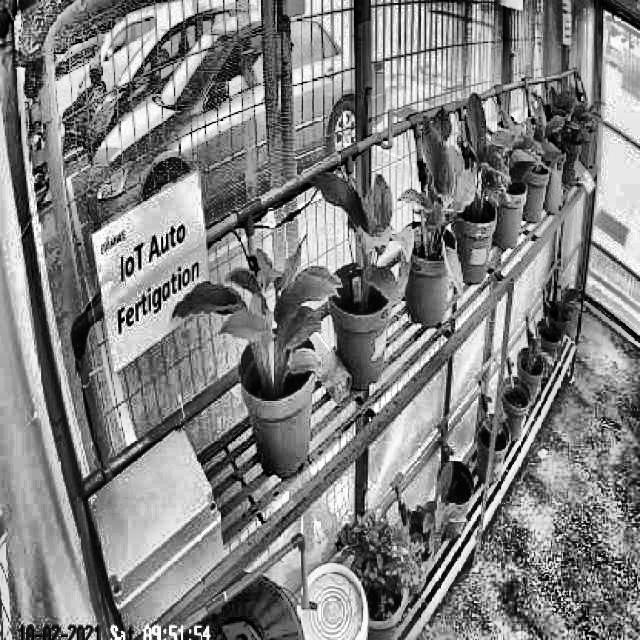plants: (168, 241, 341, 384), (392, 106, 466, 300), (314, 164, 416, 298), (444, 86, 518, 222)
